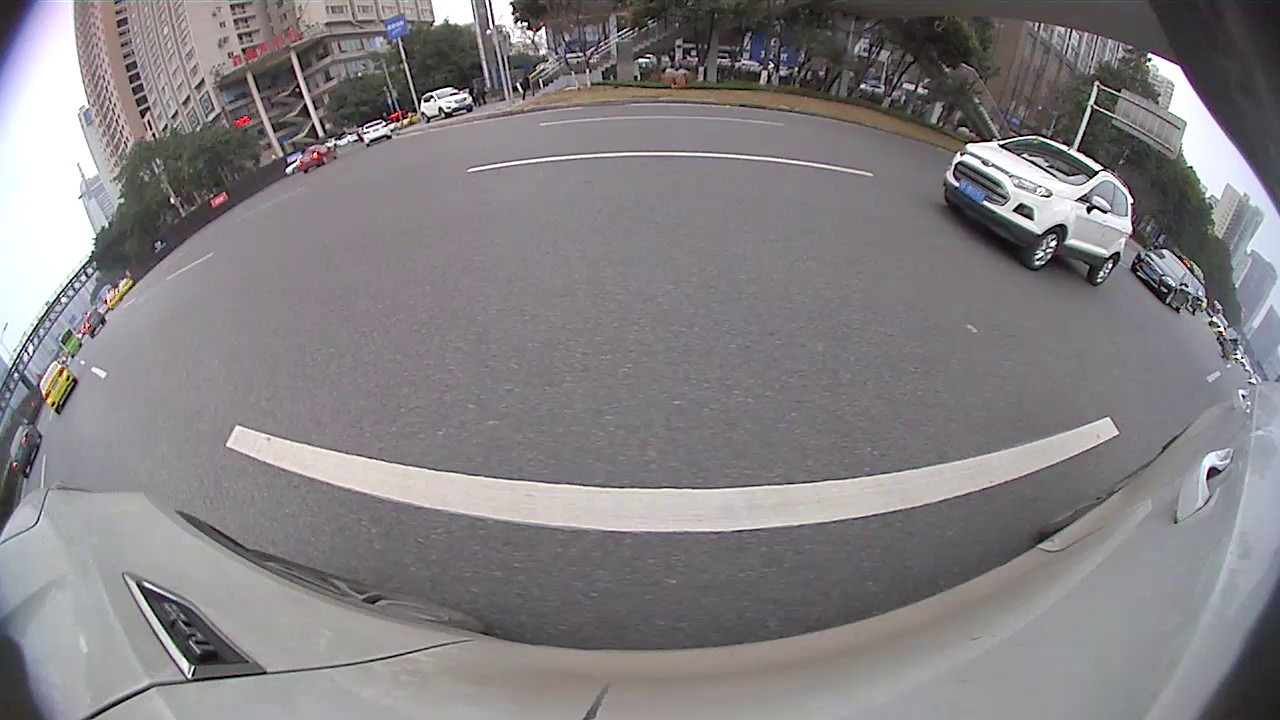bus: (973, 1, 1279, 448), (892, 122, 1010, 236)
car: (775, 147, 927, 239), (407, 136, 540, 233), (550, 132, 671, 231), (1, 371, 80, 476), (685, 156, 762, 201), (541, 167, 550, 193)
front: (1032, 267, 1156, 404), (928, 195, 955, 236), (532, 181, 543, 207)
rear: (493, 185, 513, 221), (805, 187, 820, 224)
